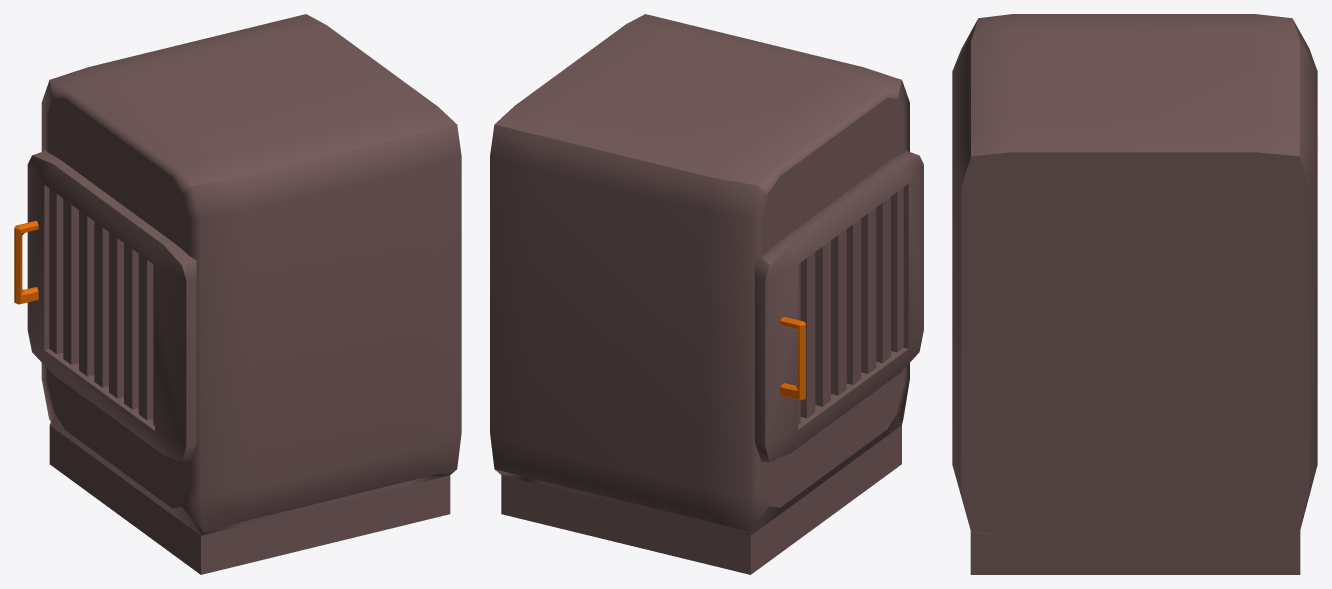
The model's file is Oven.fbx.
The picture shows the model from 3 angles, left to right: view 1: azimuth 30°, elevation 25°; view 2: azimuth 150°, elevation 25°; view 3: azimuth 270°, elevation 25°; orthographic projection. The views are drawn at different scales.
Parts seen in each view (by area): view 1: pCube238; view 2: pCube238; view 3: pCube238.
Boxes of the visible parts, <box> form: pCube238: <box>14,14,461,574</box>; pCube238: <box>490,14,923,574</box>; pCube238: <box>952,14,1317,574</box>.
Size of the model in its own units: 76.45 by 96.38 by 73.75.
